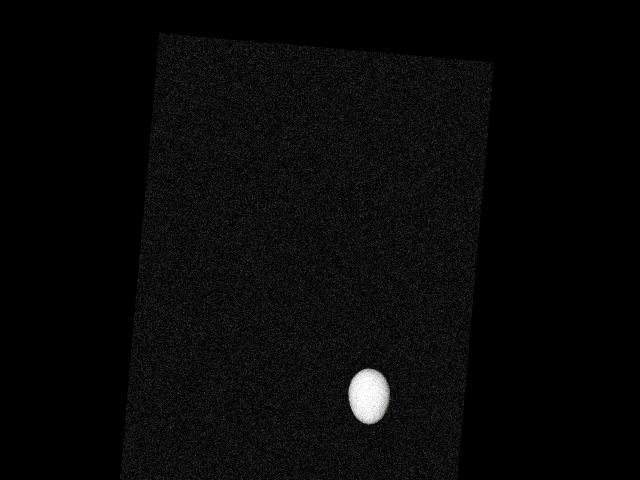egg: (346, 366, 391, 425)
